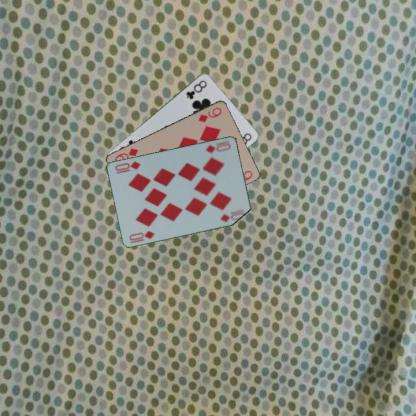10d: (204, 138, 233, 154), (127, 228, 156, 244)
8c: (183, 78, 208, 100)
9d: (195, 105, 223, 123)
